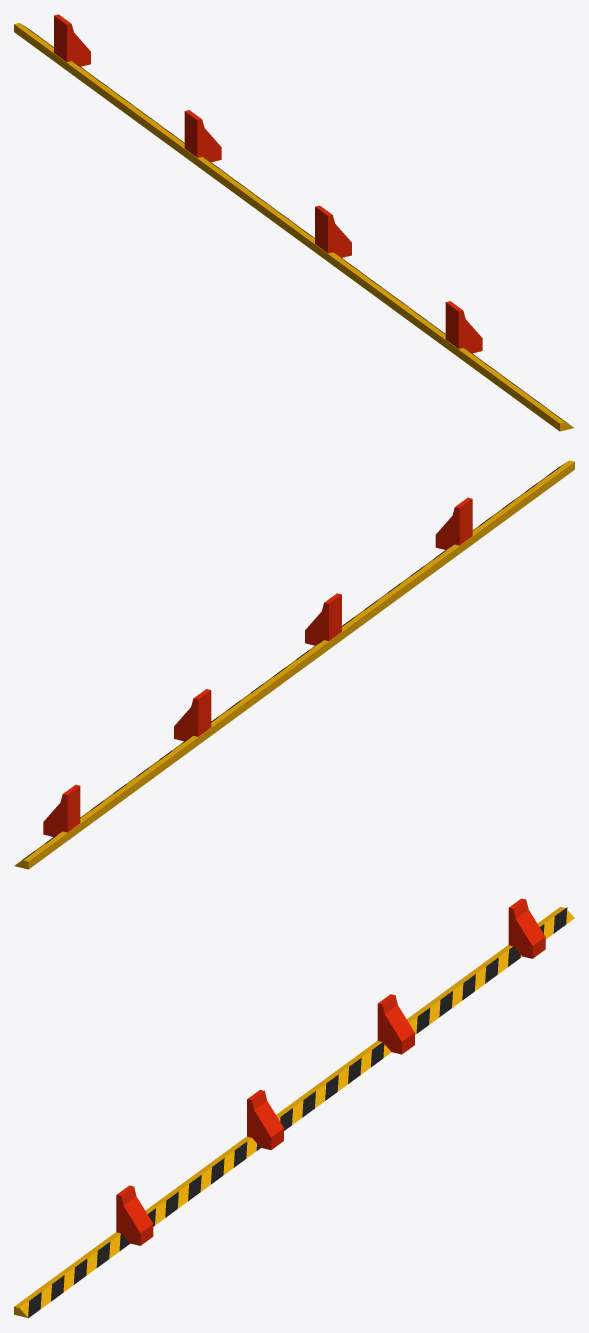
3 renders of one model, top to bottom at view 1: azimuth 30°, elevation 25°; view 2: azimuth 150°, elevation 25°; view 3: azimuth 330°, elevation 25°, orthographic.
Parts seen in each view (by area): view 1: base; view 2: base; view 3: base.
Boxes of the visible parts, x1,y1,x2,y2 form: base: [14, 14, 573, 431]; base: [14, 460, 574, 869]; base: [14, 898, 574, 1318].
Size of the model in its own units: 71.7 by 126 by 2764.
